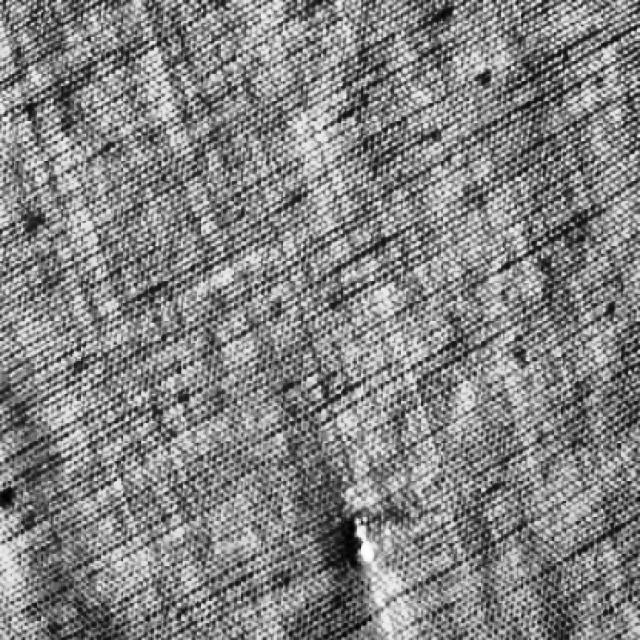hole: (346, 534, 384, 572)
